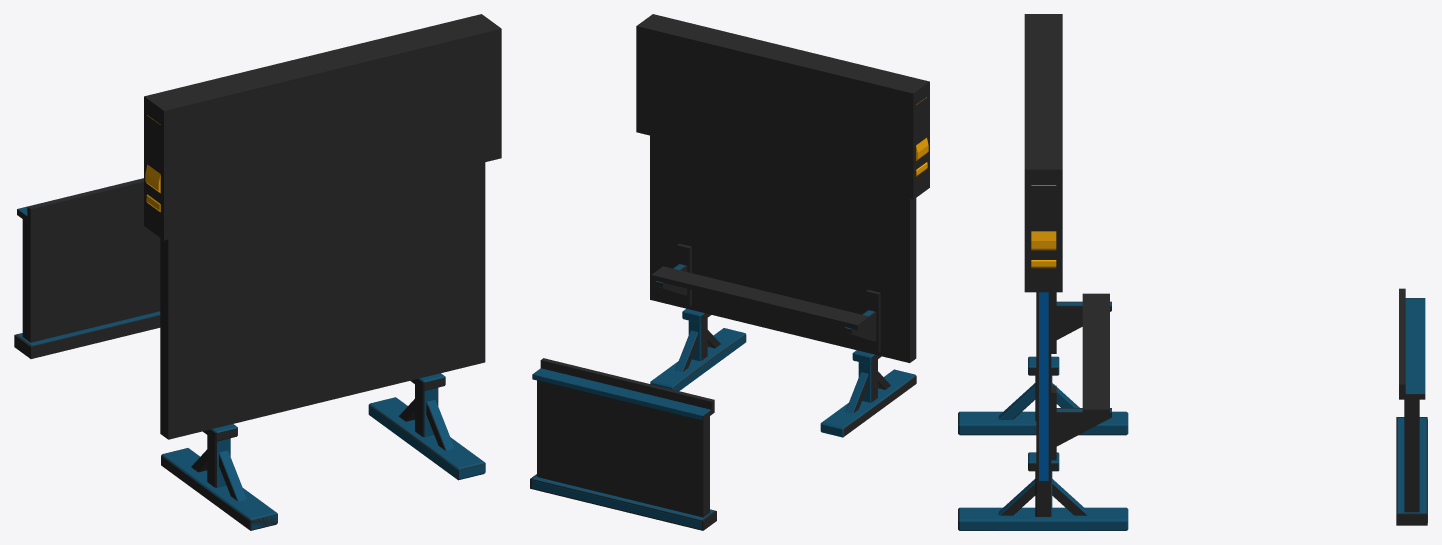
File: tinCanAlley.glb
3 views of the same model, side by side, from view 1: azimuth 30°, elevation 25°; view 2: azimuth 150°, elevation 25°; view 3: azimuth 270°, elevation 25° (orthographic). The views are drawn at different scales.
Size of the model in its own units: 3.29 by 3.75 by 4.15.
Materials: 1 (1 with a texture image).
